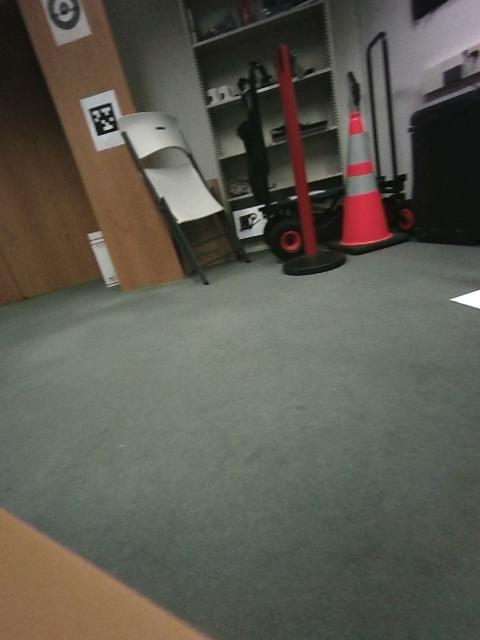block: (316, 288, 360, 327)
